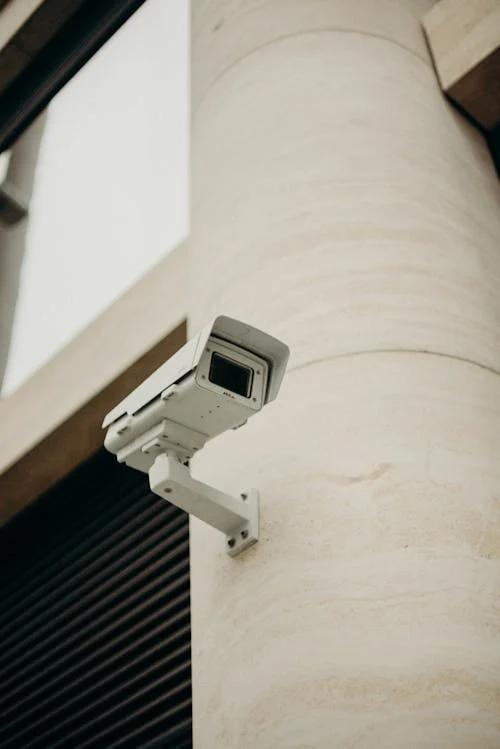------------------------------: (58, 308, 306, 492)
